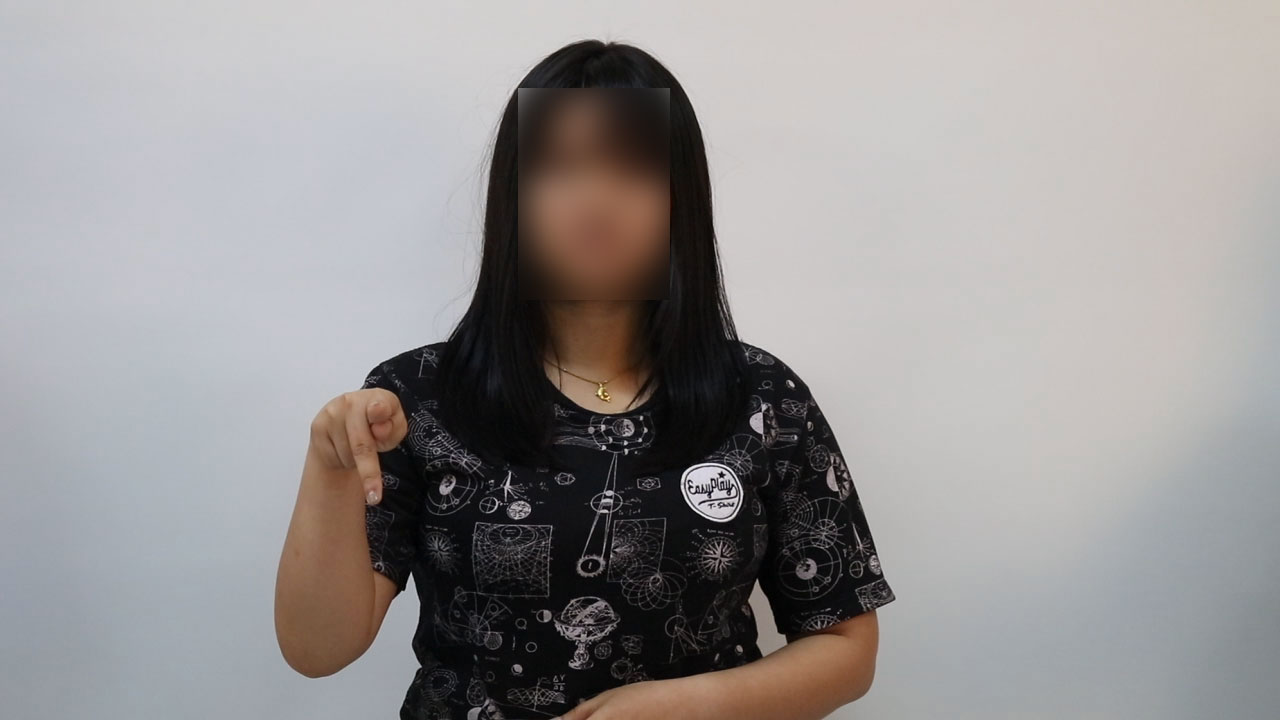por: (310, 376, 420, 523)
